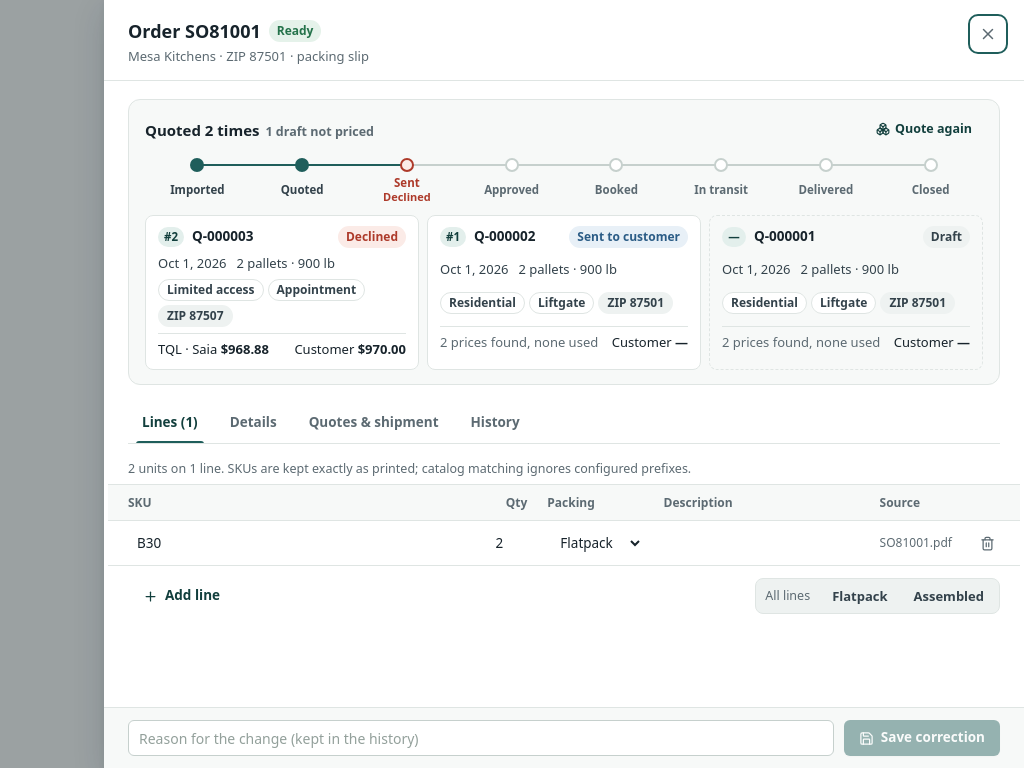
Test: Order quote history › shows how many times the order was quoted, with one card per quote, and opens the quote
Check: the heading "Quoted 2 times1 draft not priced" is shown, box x1=145 y1=120 x2=374 y2=142
Check: the text "1 draft not priced" is shown, box x1=266 y1=123 x2=374 y2=140
Click the button with aria-label "Open quote Q-". click: (282, 292)
box: x1=145 y1=215 x2=419 y2=370
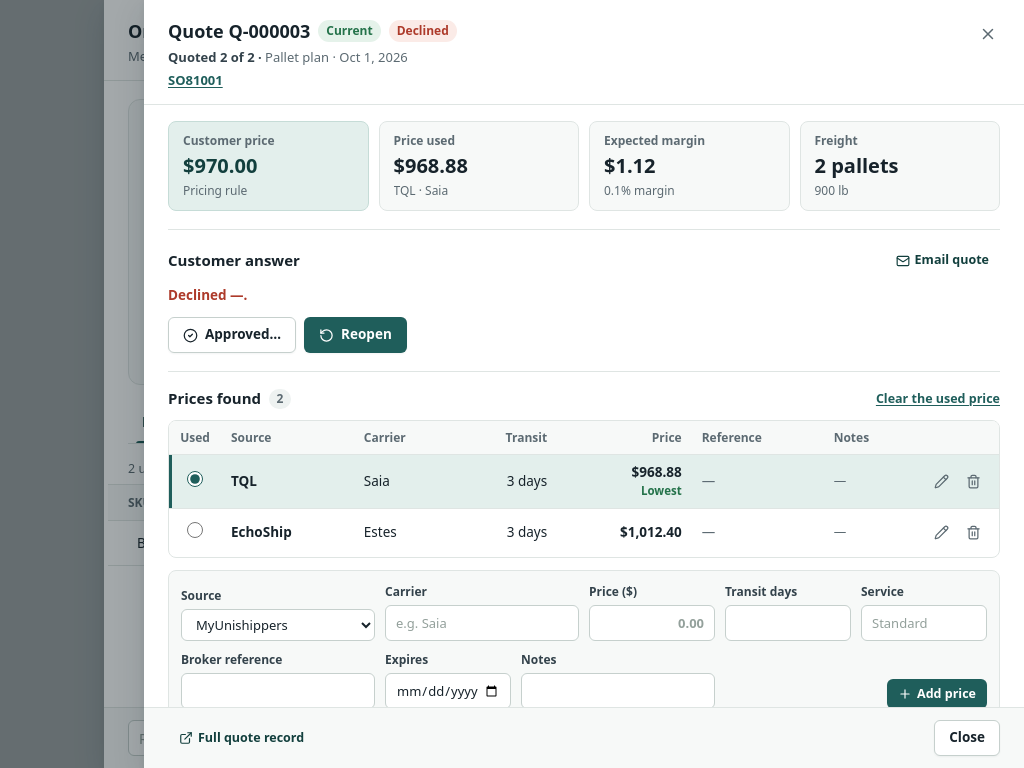
Check: the dialog "Quote Q-000003" is shown
